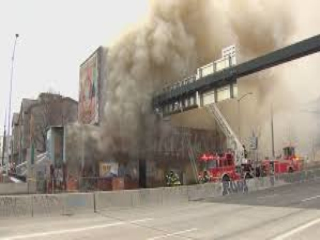smoke: (85, 8, 208, 171)
